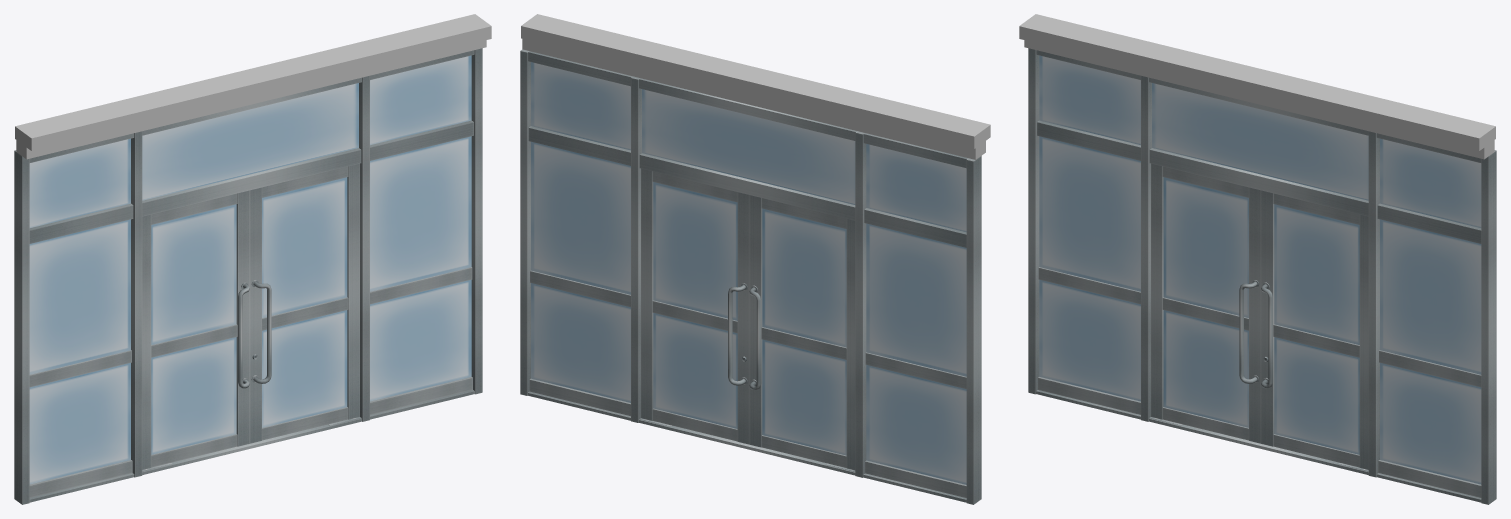
File: set_entrance_door_a.fbx
3 views of the same model, side by side, from view 1: azimuth 30°, elevation 25°; view 2: azimuth 150°, elevation 25°; view 3: azimuth 330°, elevation 25° (orthographic).
Visible parts, largest first — view 1: door_a_window_glass, door_a_window, door_a_glass_01, door_a_glass_02, door_a_wall, door_a_02, door_a_01; view 2: door_a_window_glass, door_a_window, door_a_wall, door_a_glass_01, door_a_glass_02, door_a_02, door_a_01; view 3: door_a_window_glass, door_a_window, door_a_glass_02, door_a_glass_01, door_a_wall, door_a_01, door_a_02.
Boxes of the visible parts, left/top/right/bottom form: door_a_window_glass: left=29, top=55, right=471, bottom=484; door_a_window: left=14, top=48, right=482, bottom=504; door_a_glass_01: left=151, top=204, right=236, bottom=454; door_a_glass_02: left=262, top=177, right=347, bottom=427; door_a_wall: left=15, top=14, right=491, bottom=159; door_a_02: left=250, top=163, right=359, bottom=443; door_a_01: left=142, top=190, right=249, bottom=469; door_a_window_glass: left=531, top=62, right=966, bottom=484; door_a_window: left=520, top=49, right=981, bottom=504; door_a_wall: left=521, top=14, right=990, bottom=159; door_a_glass_01: left=762, top=208, right=846, bottom=455; door_a_glass_02: left=653, top=182, right=737, bottom=428; door_a_02: left=641, top=168, right=749, bottom=444; door_a_01: left=749, top=195, right=855, bottom=470; door_a_window_glass: left=1039, top=55, right=1481, bottom=484; door_a_window: left=1028, top=48, right=1496, bottom=504; door_a_glass_02: left=1274, top=204, right=1359, bottom=454; door_a_glass_01: left=1163, top=177, right=1248, bottom=427; door_a_wall: left=1019, top=14, right=1495, bottom=159; door_a_01: left=1151, top=163, right=1260, bottom=443; door_a_02: left=1261, top=190, right=1368, bottom=469.
Size of the model in its own units: 400 by 310 by 31.49.
